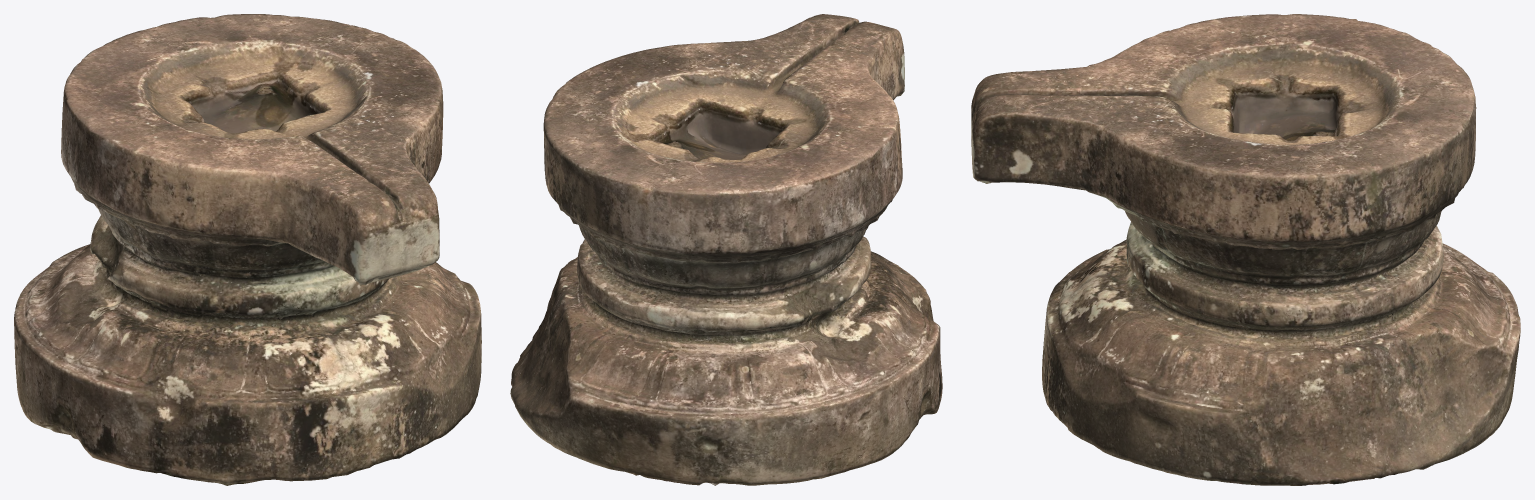
The model's file is 21_MysonSanctuaryC_DaiTho_final.glb.
The picture shows the model from 3 angles, left to right: view 1: azimuth 30°, elevation 25°; view 2: azimuth 150°, elevation 25°; view 3: azimuth 270°, elevation 25°; orthographic projection. The views are drawn at different scales.
Bounding box in the file's own units: 0.648 × 0.4608 × 0.7487.
1 material, 1 textured.
